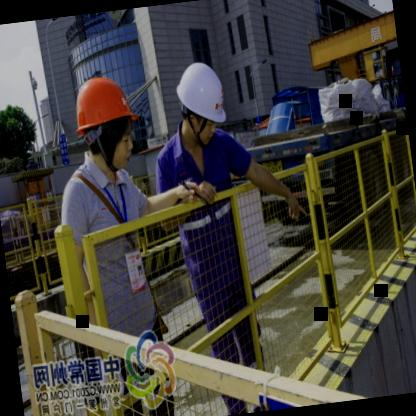helmet: (60, 59, 146, 180), (166, 52, 233, 150)
